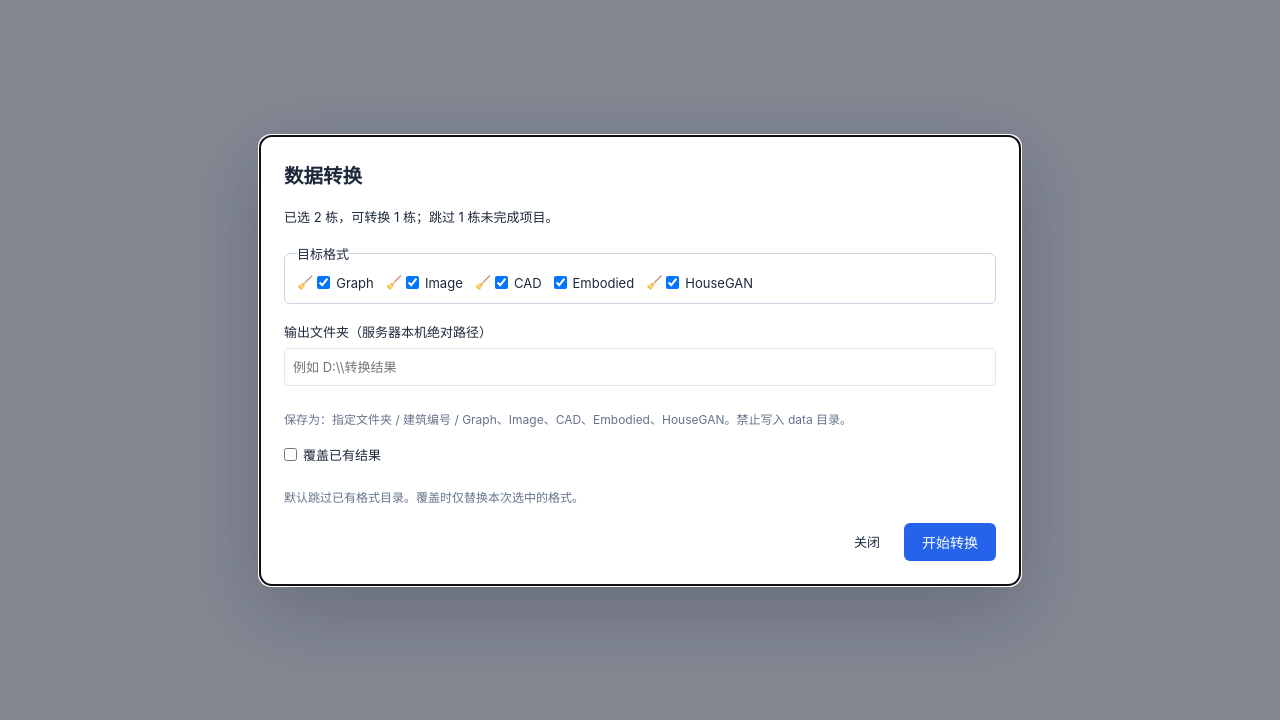
Test case: ConversionDialog › starts blank, selects all formats and submits only complete projects with skip as default
The image size is (1280, 720).
expect the checkbox labelled "Graph" is checked: met, box [317,276,330,289]
expect the checkbox labelled "Image" is checked: met, box [406,276,419,289]
Type "D:\\转换 结果" into the field labelled "输出文件夹".
click(640, 366); type("D:\\转换 结果")  # box [284,348,996,386]
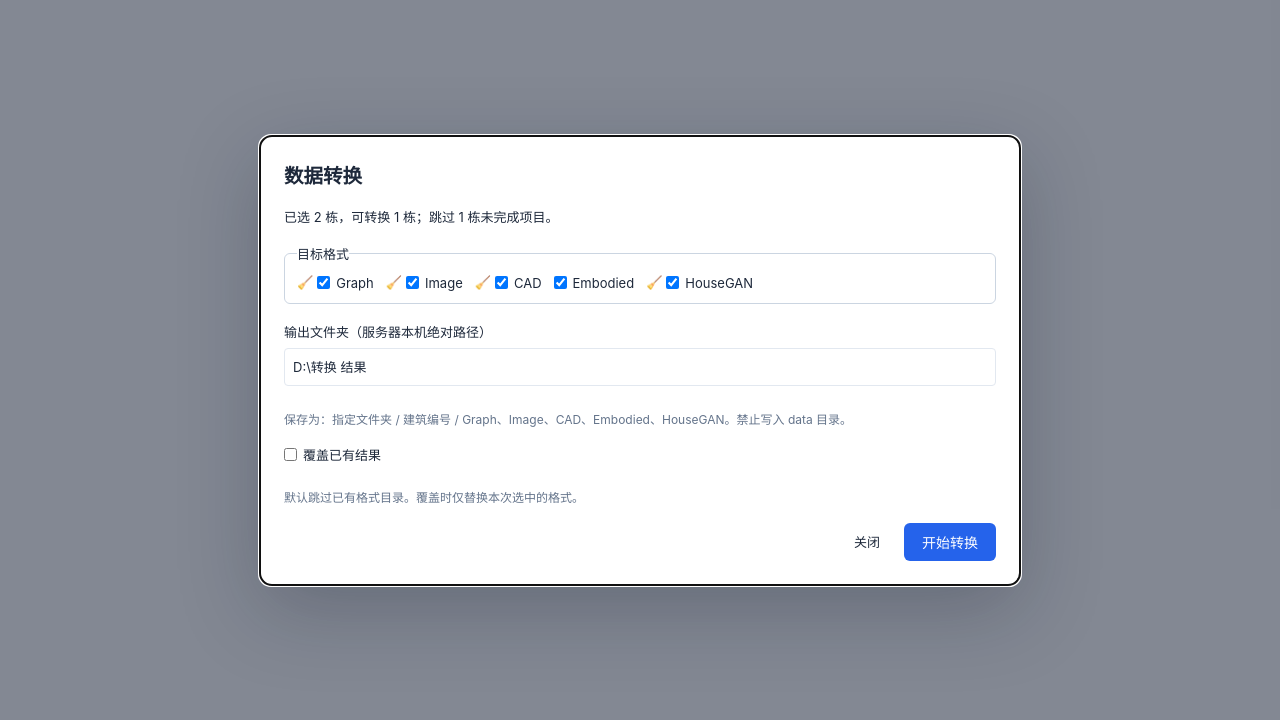
Click the button "开始转换".
click(950, 542)  # box [904,522,996,560]
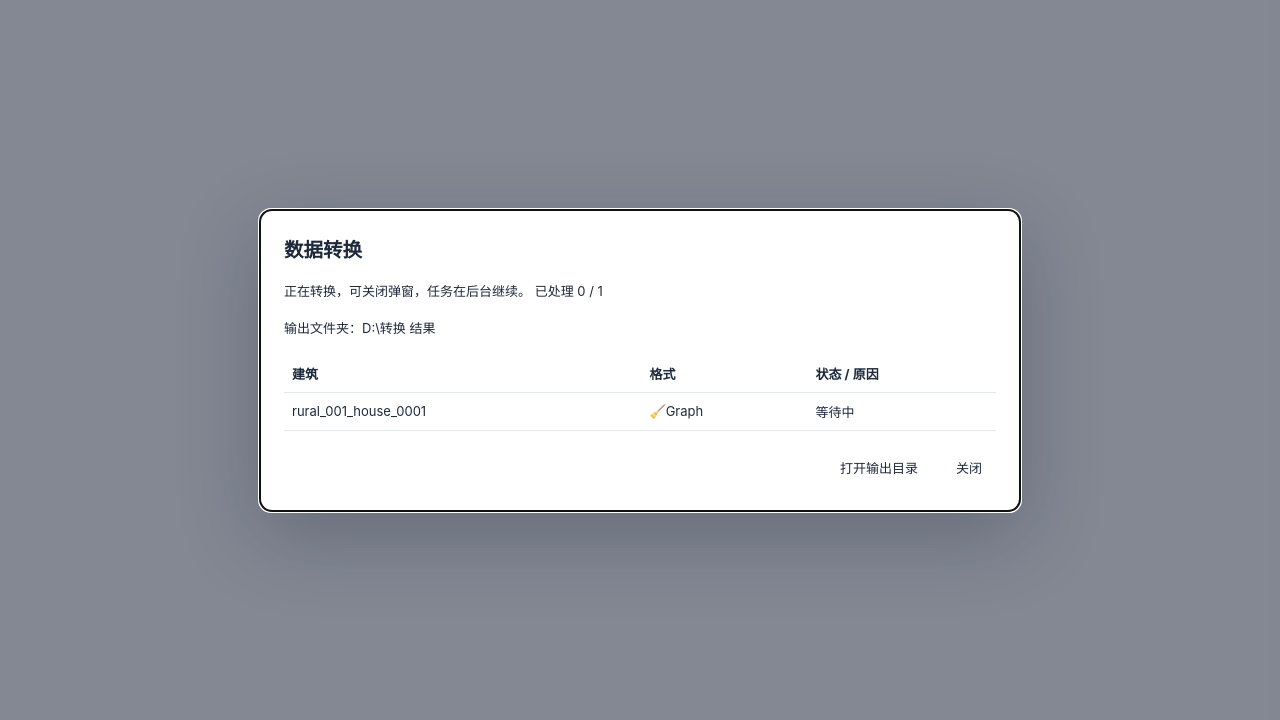
expect the text "等待中" is shown: met, box [807,392,996,430]
